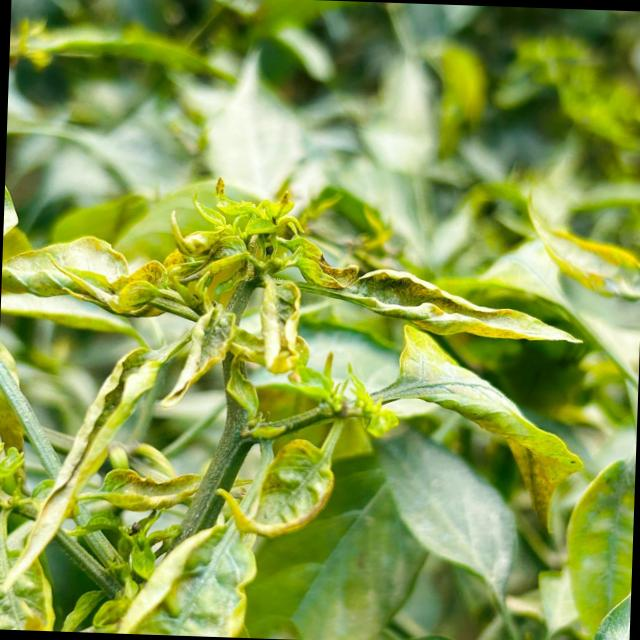Chilli_Leaf_Curl: (0, 167, 594, 640), (362, 320, 588, 538), (290, 262, 586, 345), (115, 516, 258, 637), (560, 455, 634, 640), (212, 434, 336, 540)
